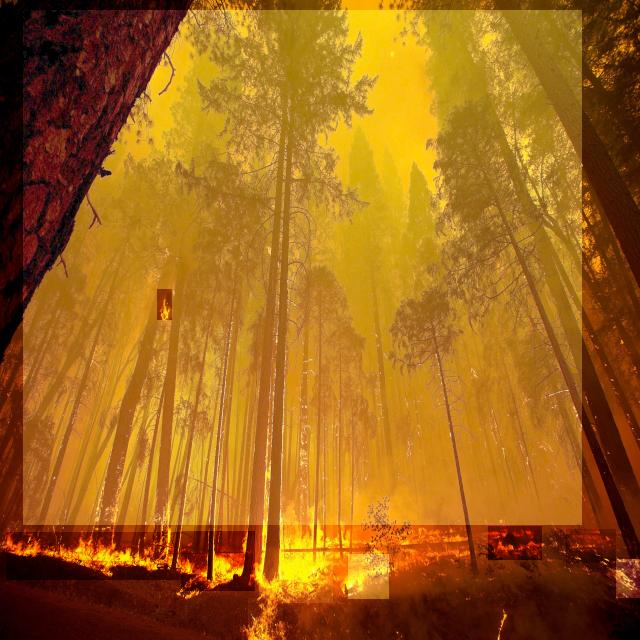Fire: (6, 532, 184, 580), (259, 508, 333, 603), (181, 531, 255, 591), (348, 554, 389, 599), (488, 526, 542, 560), (566, 529, 616, 563), (248, 598, 283, 640), (616, 559, 640, 598), (157, 289, 172, 320)
Smoke: (23, 10, 582, 525)
